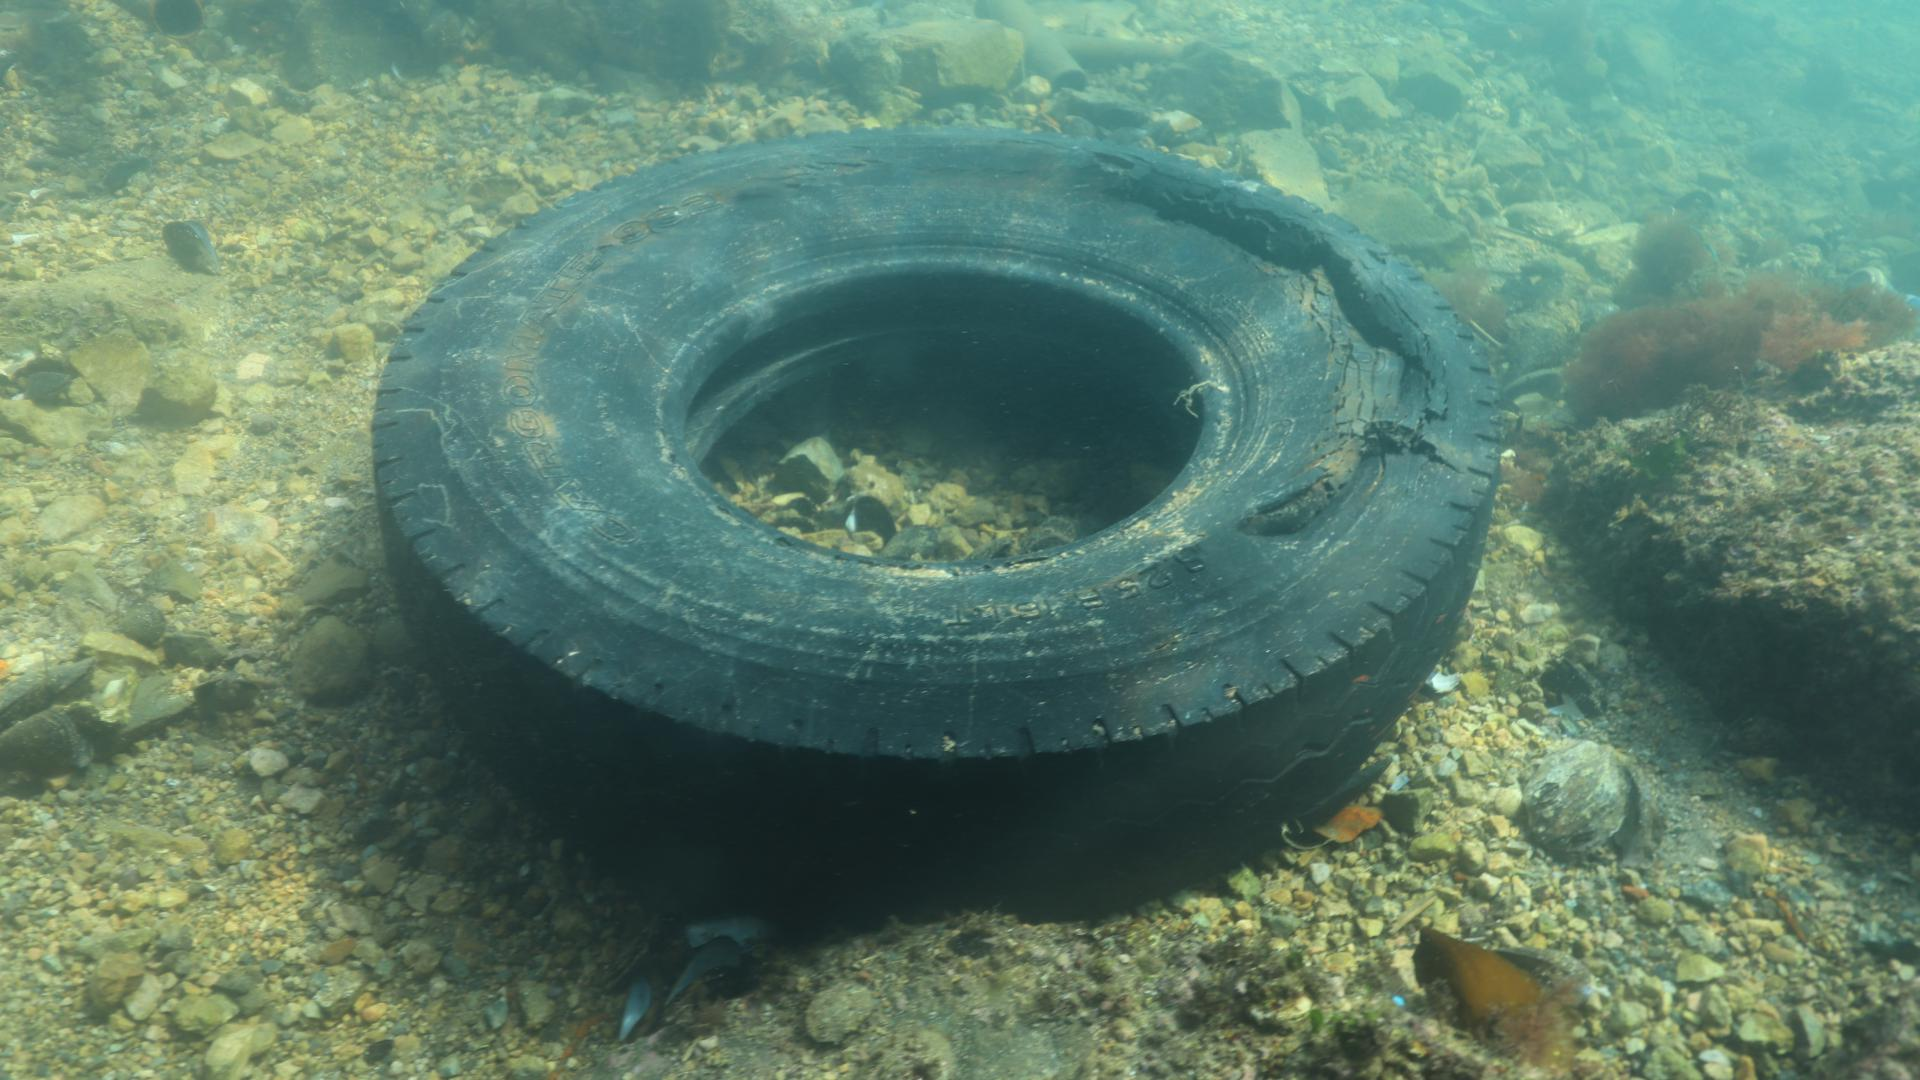tire: (368, 127, 1502, 922)
